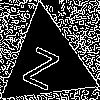Z: (21, 37, 64, 91)
